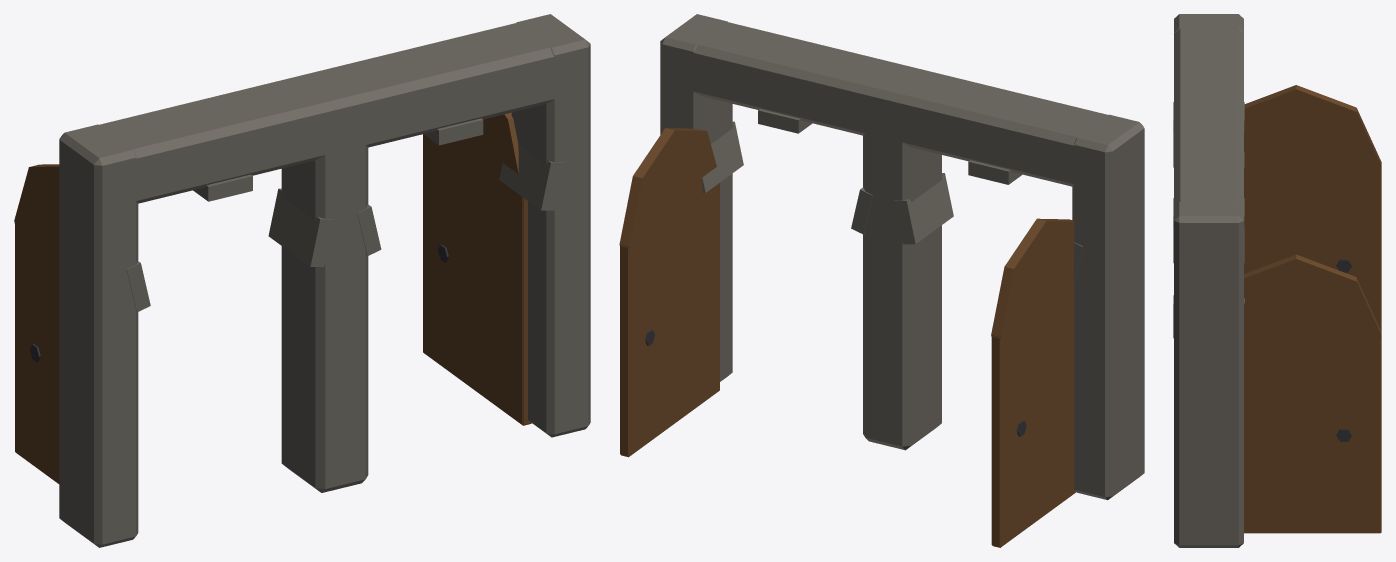
The model's file is Bld_Lab_TwinDoors_Open_LOD1.glb.
3 views of the same model, side by side, from view 1: azimuth 30°, elevation 25°; view 2: azimuth 150°, elevation 25°; view 3: azimuth 270°, elevation 25° (orthographic). The views are drawn at different scales.
Visible parts, largest first — view 1: Bld_Lab_TwinDoors_Open, Bld_Lab_TwinDoors_Open_DoorB, Bld_Lab_TwinDoors_Open_DoorA; view 2: Bld_Lab_TwinDoors_Open, Bld_Lab_TwinDoors_Open_DoorB, Bld_Lab_TwinDoors_Open_DoorA; view 3: Bld_Lab_TwinDoors_Open, Bld_Lab_TwinDoors_Open_DoorB, Bld_Lab_TwinDoors_Open_DoorA.
Part boxes in pixels (bbox=[...]): Bld_Lab_TwinDoors_Open: bbox=[59, 14, 590, 547]; Bld_Lab_TwinDoors_Open_DoorB: bbox=[423, 112, 531, 425]; Bld_Lab_TwinDoors_Open_DoorA: bbox=[14, 164, 59, 483]; Bld_Lab_TwinDoors_Open: bbox=[660, 14, 1144, 500]; Bld_Lab_TwinDoors_Open_DoorB: bbox=[619, 128, 719, 457]; Bld_Lab_TwinDoors_Open_DoorA: bbox=[991, 218, 1076, 547]; Bld_Lab_TwinDoors_Open: bbox=[1173, 14, 1244, 547]; Bld_Lab_TwinDoors_Open_DoorB: bbox=[1244, 254, 1381, 533]; Bld_Lab_TwinDoors_Open_DoorA: bbox=[1244, 85, 1381, 330].
Bounding box in the file's own units: 5.6 × 4.2 × 2.39.
